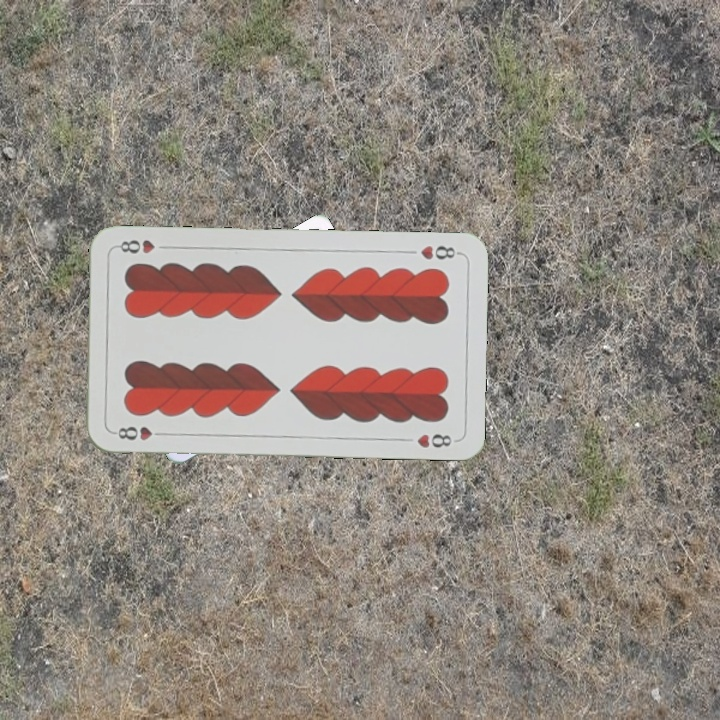H8: (110, 422, 169, 443), (416, 241, 462, 262)
